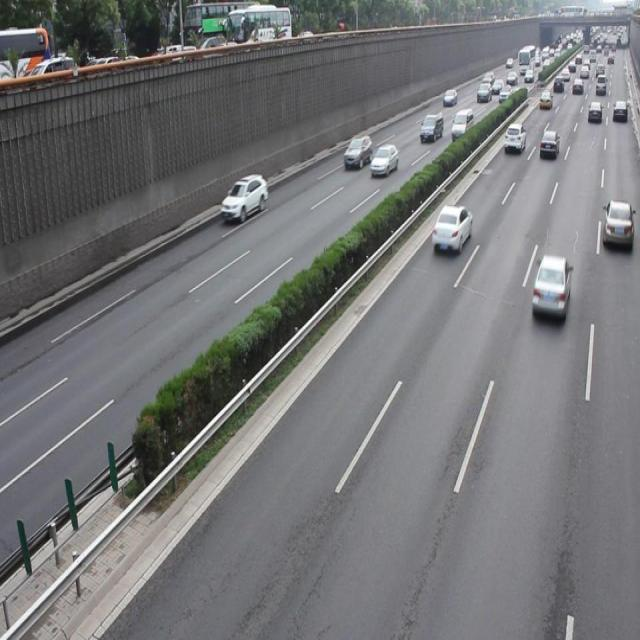car: (529, 253, 569, 321), (220, 170, 267, 220), (430, 202, 471, 252), (600, 199, 640, 249), (342, 134, 372, 169), (369, 144, 398, 176)
